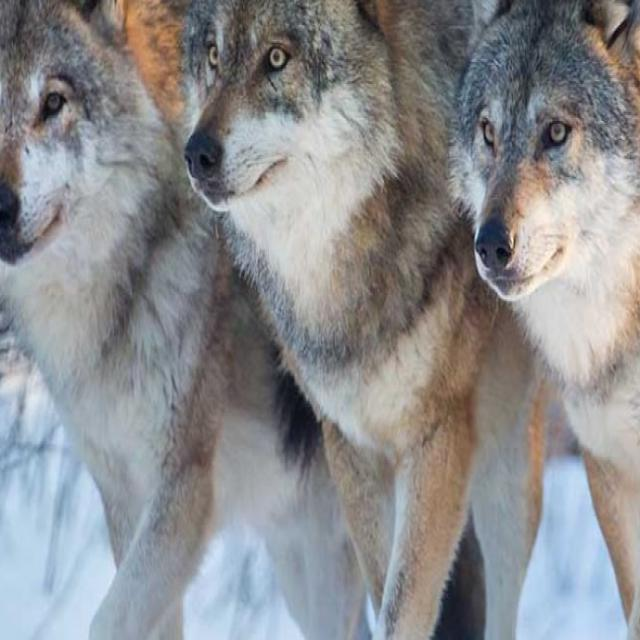wolf: (176, 0, 542, 640), (0, 0, 272, 640), (452, 0, 640, 640)
